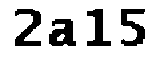1: (84, 9, 114, 50)
2: (11, 8, 43, 48)
5: (116, 6, 155, 48)
a: (49, 16, 85, 50)
